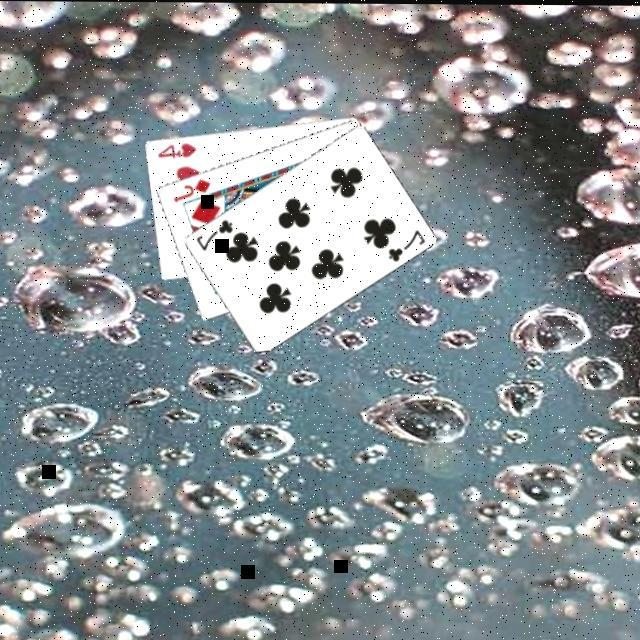4H: (153, 136, 197, 158)
7C: (384, 224, 426, 262), (192, 213, 234, 250)
JD: (170, 173, 212, 203)
